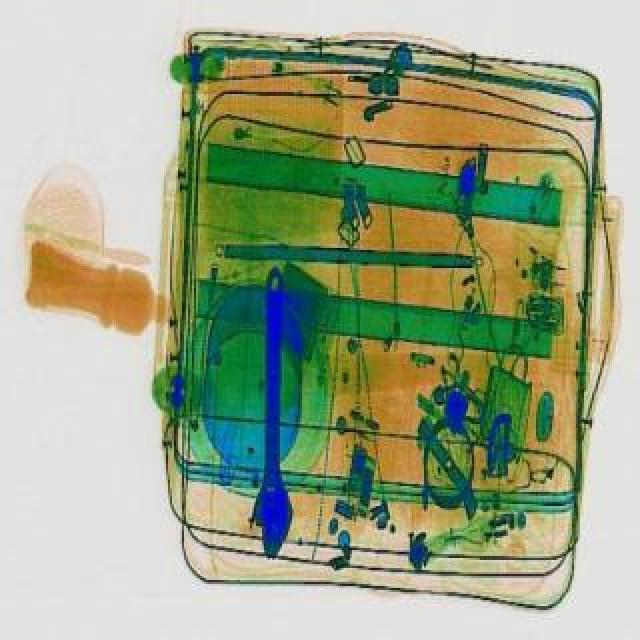scissors: (252, 272, 296, 562)
